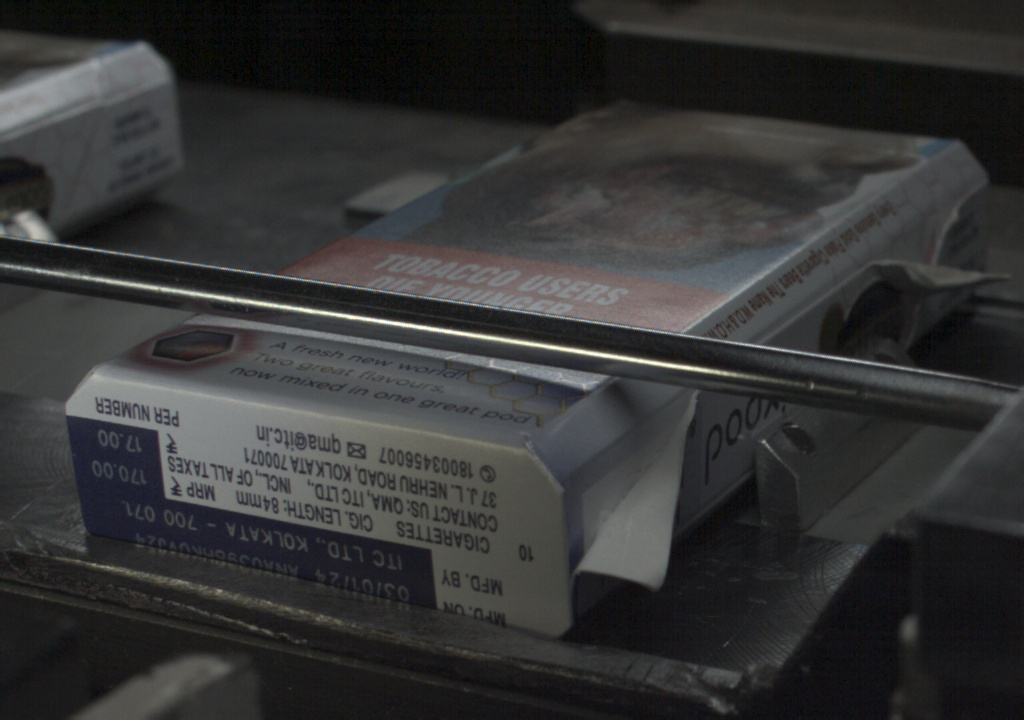g_bottom: (62, 369, 558, 644)
g_label: (75, 495, 437, 612)
ng_lmiter: (571, 395, 690, 596), (881, 257, 1014, 296)
ng_miter: (925, 179, 995, 260)
price: (78, 425, 164, 495)
